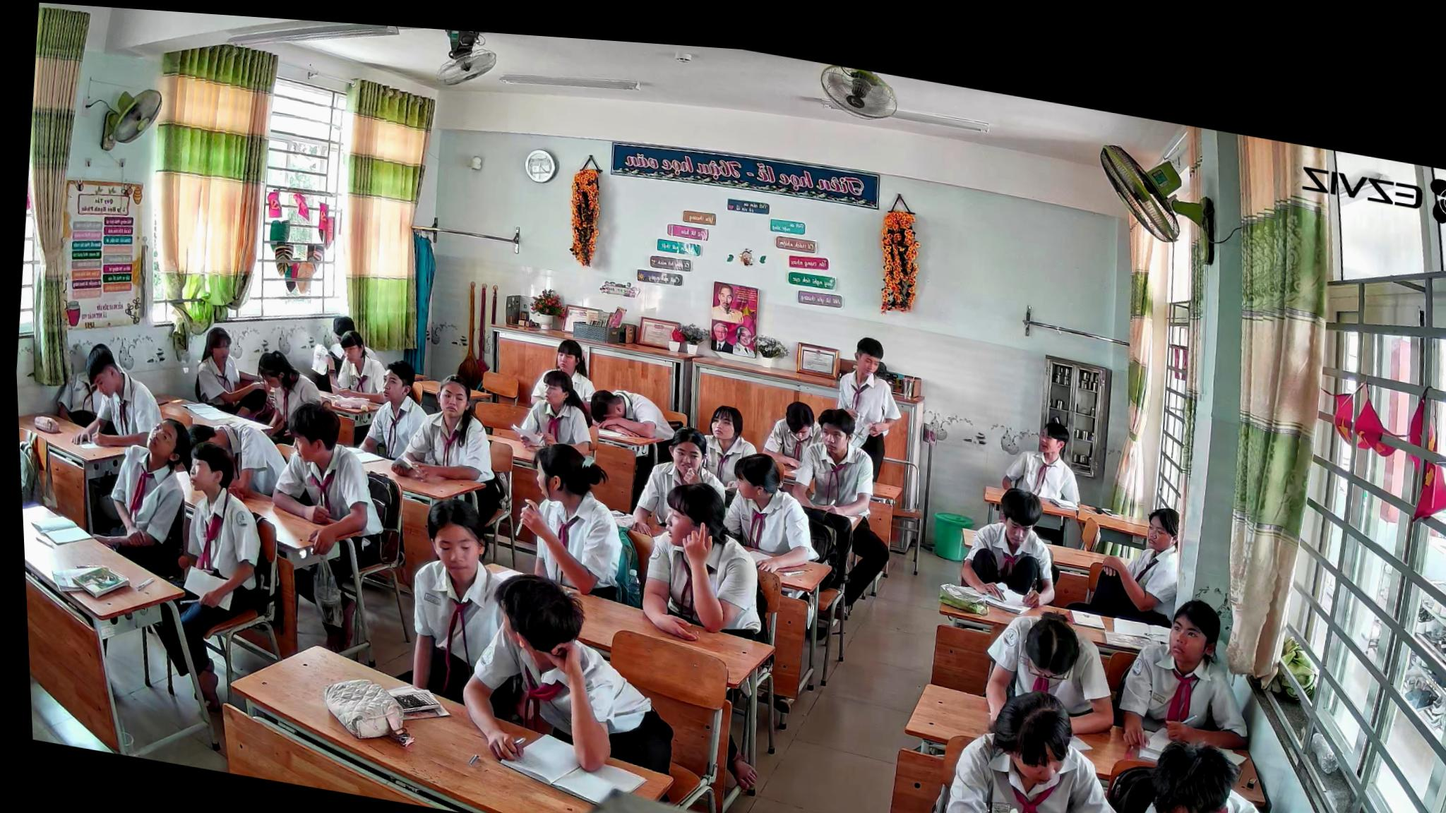person: (450, 563, 689, 789), (139, 433, 288, 721), (250, 395, 402, 659), (389, 490, 539, 717), (920, 673, 1155, 813), (1107, 586, 1264, 776), (777, 399, 906, 613), (631, 471, 778, 654), (380, 362, 520, 536), (974, 601, 1124, 750), (504, 435, 634, 604), (88, 405, 201, 583), (1061, 491, 1193, 632), (714, 447, 823, 589), (1110, 730, 1294, 813), (952, 478, 1065, 612), (622, 417, 736, 548), (825, 332, 913, 489), (991, 413, 1089, 550), (66, 339, 172, 459), (180, 409, 294, 504), (189, 323, 284, 427), (349, 353, 435, 467), (506, 363, 599, 459), (249, 348, 328, 450), (526, 333, 605, 419), (699, 402, 764, 506), (586, 384, 679, 449), (322, 326, 394, 404), (758, 394, 825, 476), (323, 311, 358, 360)
